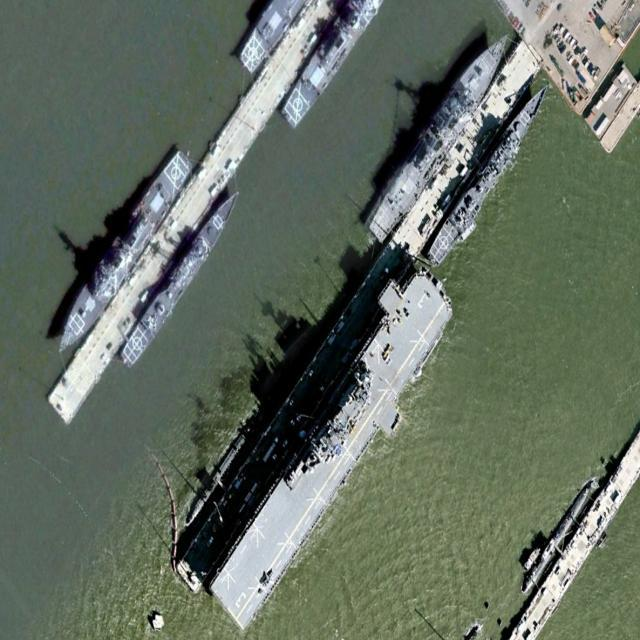Destroyer: (360, 20, 519, 247), (47, 143, 196, 366), (277, 3, 364, 135)
Frigate: (425, 78, 556, 271), (116, 179, 246, 373)
Landing: (199, 246, 458, 635)
Submarine: (519, 477, 596, 596)
